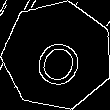O_NE: (27, 23, 88, 88)
